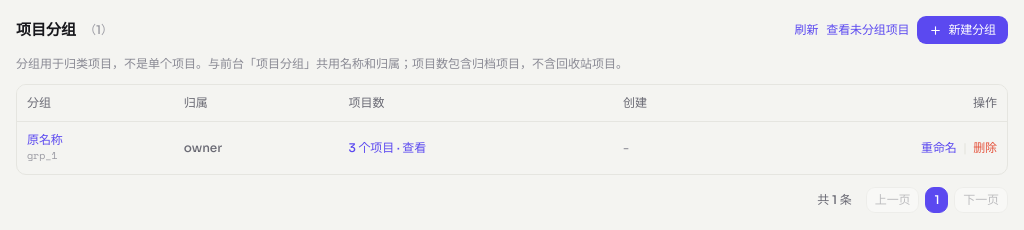
Test: project group rename › renames by stable group ID and preserves ownership and project counts
Click the button "重命名" at [939, 148], box [921,140,957,156]
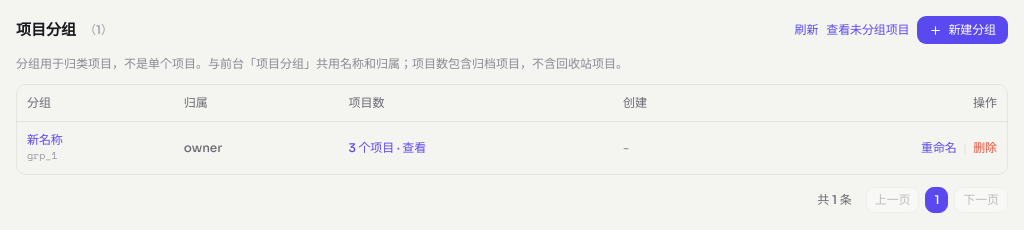
Expected: the text "owner" is shown, [174,122,339,174]
Result: the button "新名称" is shown at [27,132,63,148]
